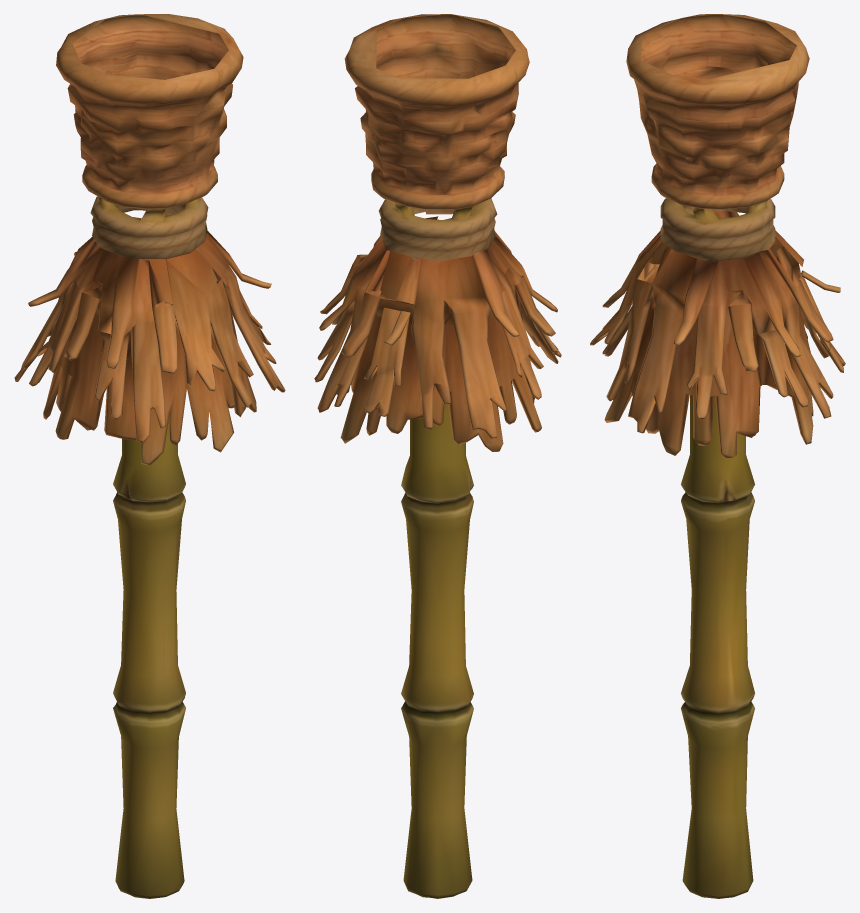
File: tripo_raw.glb
The picture shows the model from 3 angles, left to right: view 1: azimuth 30°, elevation 25°; view 2: azimuth 150°, elevation 25°; view 3: azimuth 270°, elevation 25°; orthographic projection.
Parts seen in each view (by area): view 1: tripo_node_37e0f00a-2955-4922-8ce1-720e2da1ddbe; view 2: tripo_node_37e0f00a-2955-4922-8ce1-720e2da1ddbe; view 3: tripo_node_37e0f00a-2955-4922-8ce1-720e2da1ddbe.
Boxes of the visible parts, x1,y1,x2,y2 form: tripo_node_37e0f00a-2955-4922-8ce1-720e2da1ddbe: (14, 14, 285, 898); tripo_node_37e0f00a-2955-4922-8ce1-720e2da1ddbe: (314, 14, 561, 898); tripo_node_37e0f00a-2955-4922-8ce1-720e2da1ddbe: (590, 14, 845, 898).
Size of the model in its own units: 0.2759 by 1 by 0.2759.
1 material, 1 textured.
